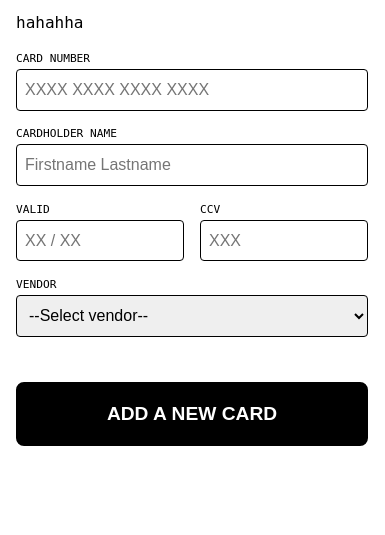
Test: CardForm Component › Displays error message if all the fields are not filled
Click the button "Add a new card" at x=192, y=414, box [16, 382, 368, 446]
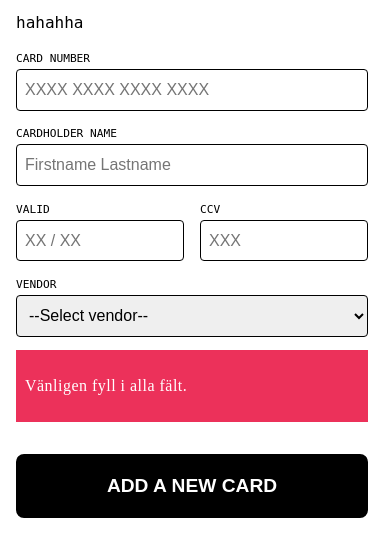
expect the text "Vänligen fyll i alla fält." is shown: met, box [25, 377, 187, 394]
